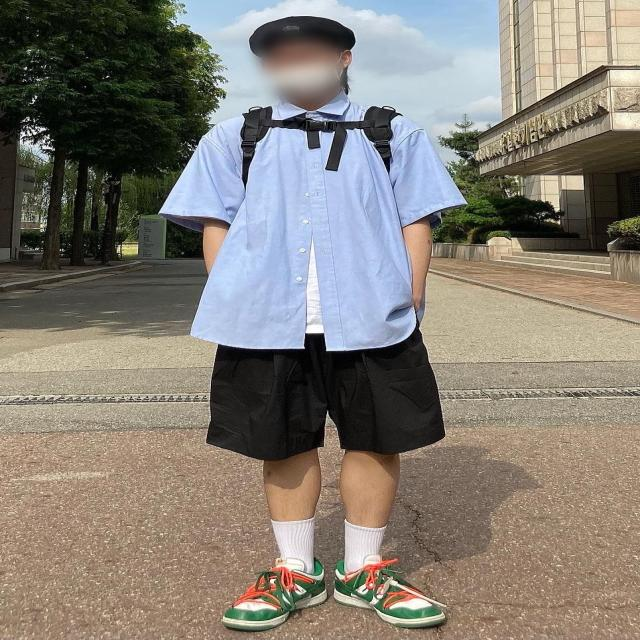shirt: (158, 97, 465, 352)
shortpants: (202, 324, 449, 462)
